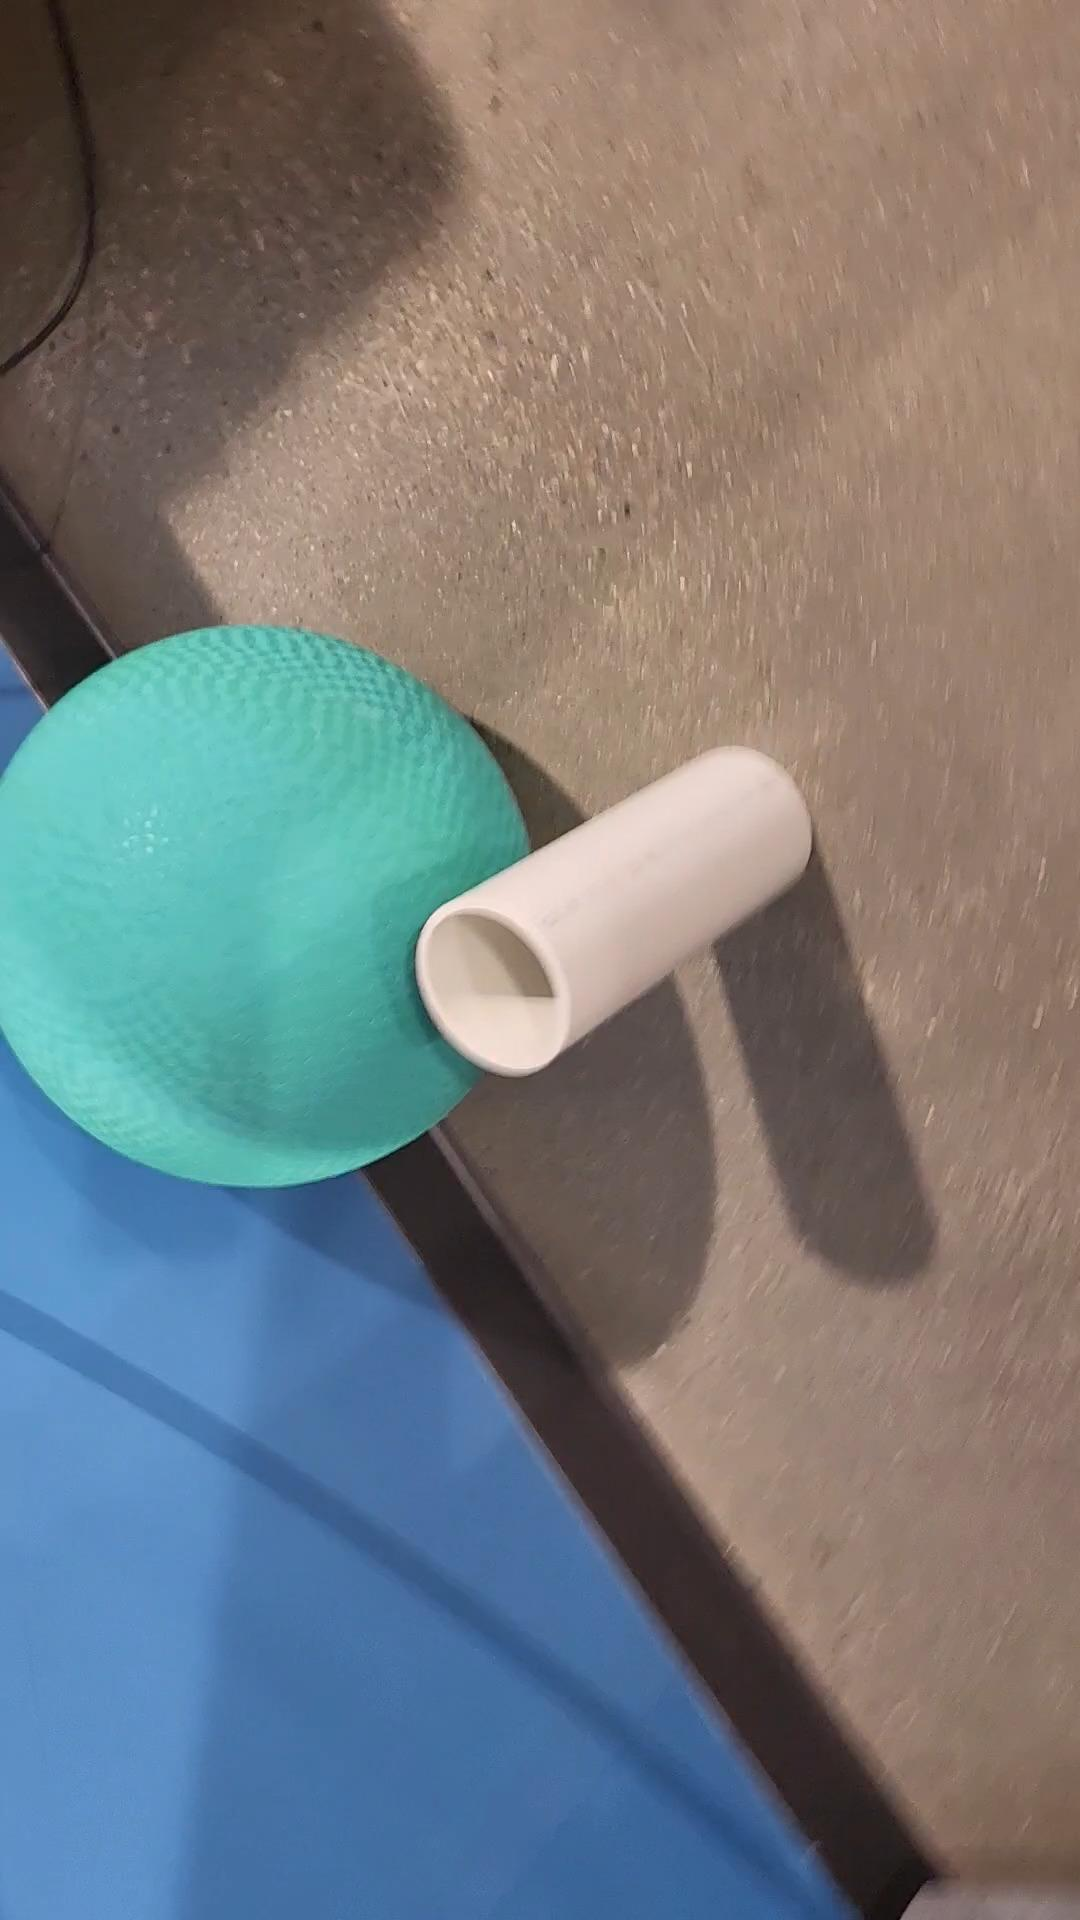algae: (0, 625, 530, 1188)
coral: (415, 748, 810, 1065)
